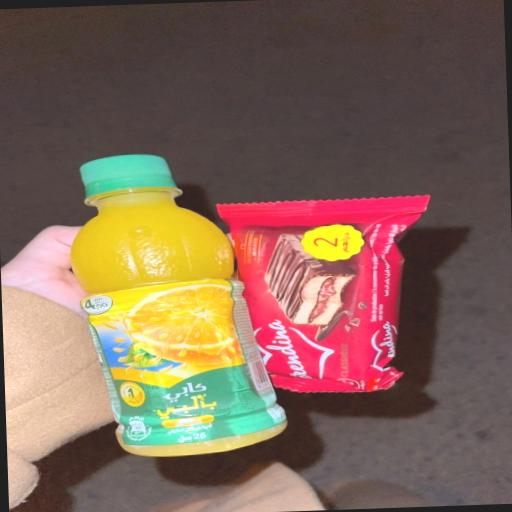merendina: (166, 158, 488, 444)
